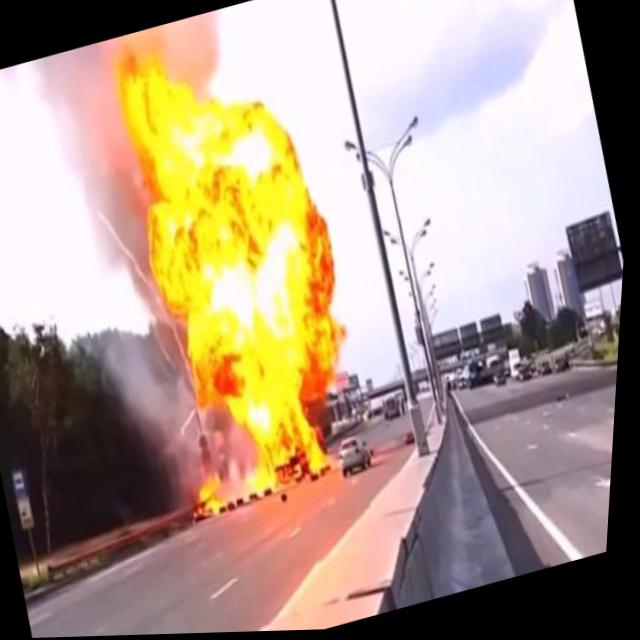fire: (74, 12, 406, 533)
